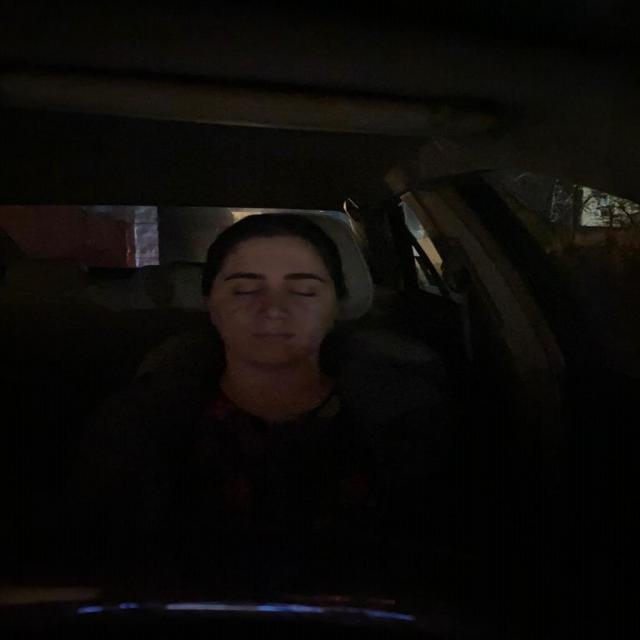drowsy: (198, 208, 360, 383)
